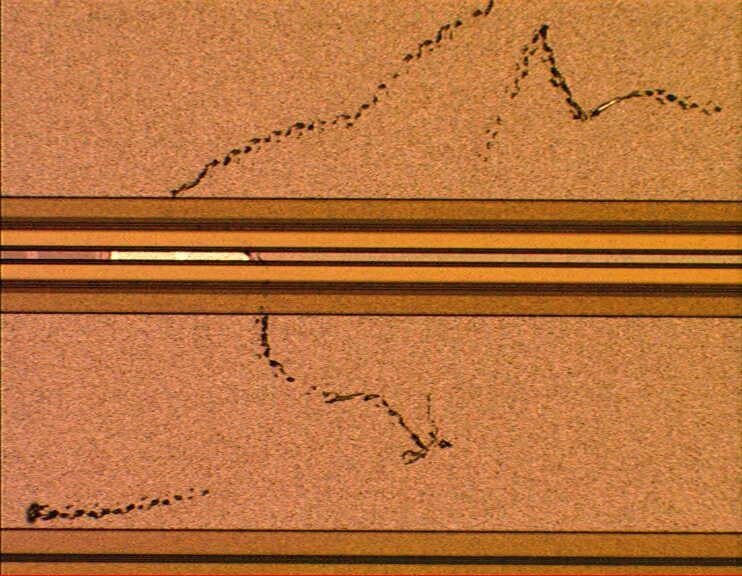SCRATCH: (21, 1, 729, 529)
